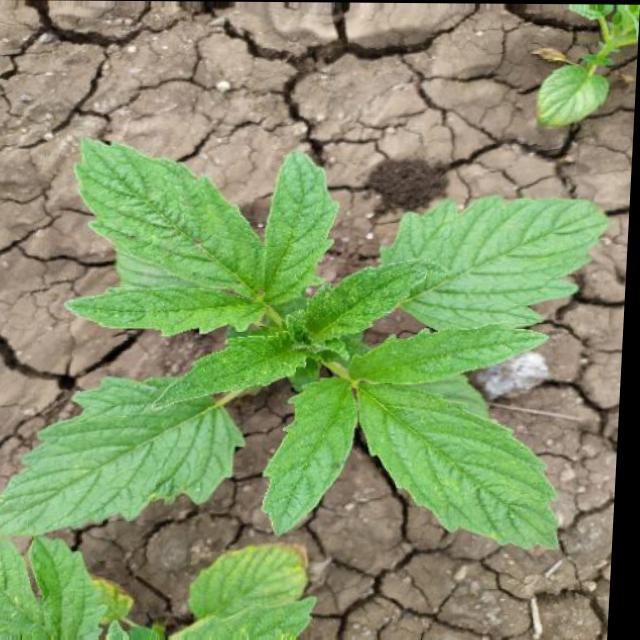crop: (0, 140, 618, 558)
